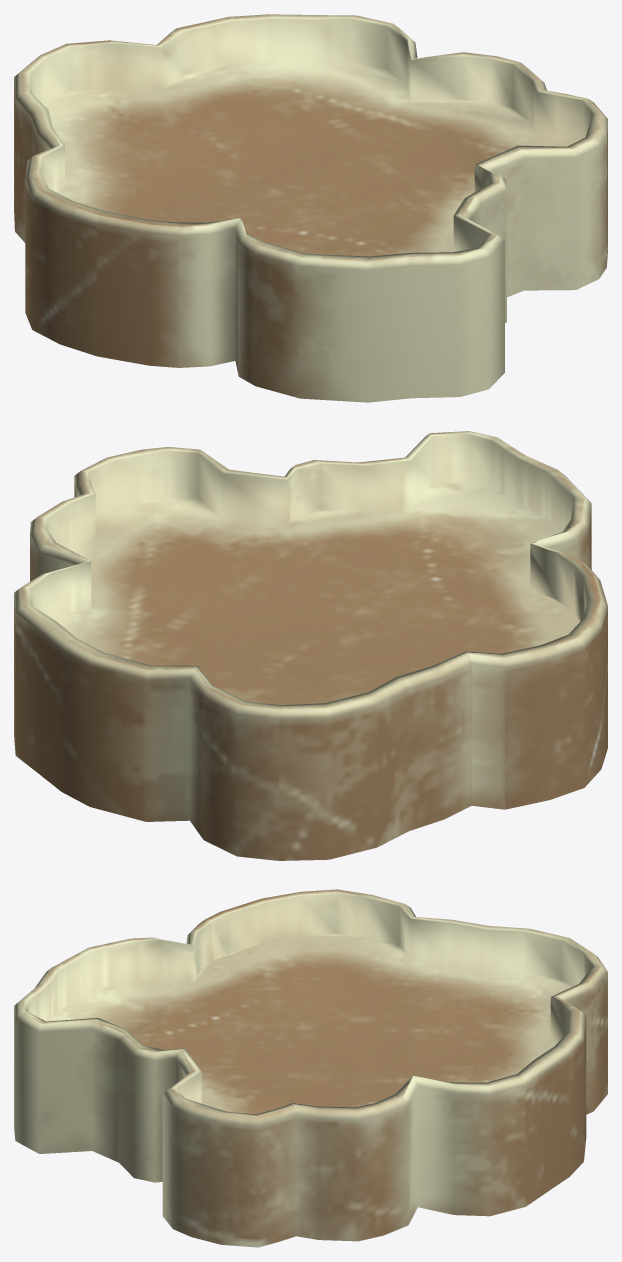
File: Plates_Small_1.fbx
3 renders of one model, top to bottom at view 1: azimuth 30°, elevation 25°; view 2: azimuth 150°, elevation 25°; view 3: azimuth 270°, elevation 25°, orthographic. The views are drawn at different scales.
Visible parts, largest first — view 1: pCylinder1; view 2: pCylinder1; view 3: pCylinder1.
Part boxes in pixels (x1,y1,x2,y2): pCylinder1: (14, 14, 607, 402); pCylinder1: (14, 431, 607, 860); pCylinder1: (14, 889, 607, 1247).
Bounding box in the file's own units: 15.92 × 4.06 × 17.13.
